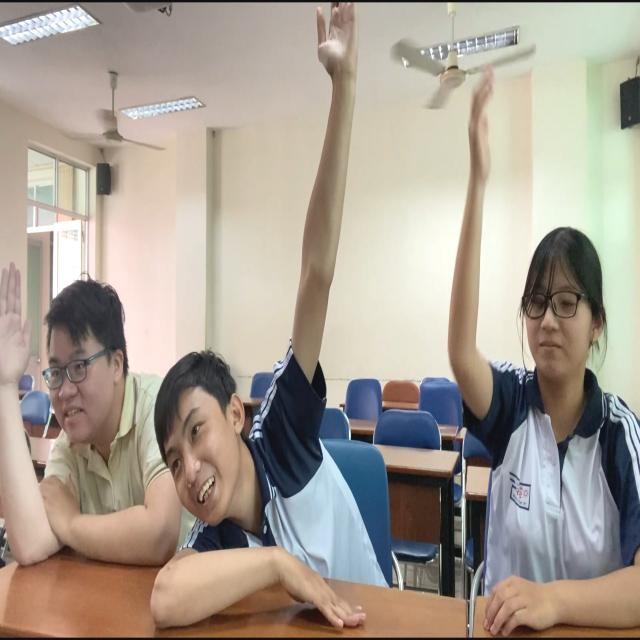raise_hand: (445, 63, 640, 640)
